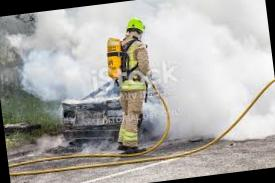Smoke: (10, 0, 275, 168)
